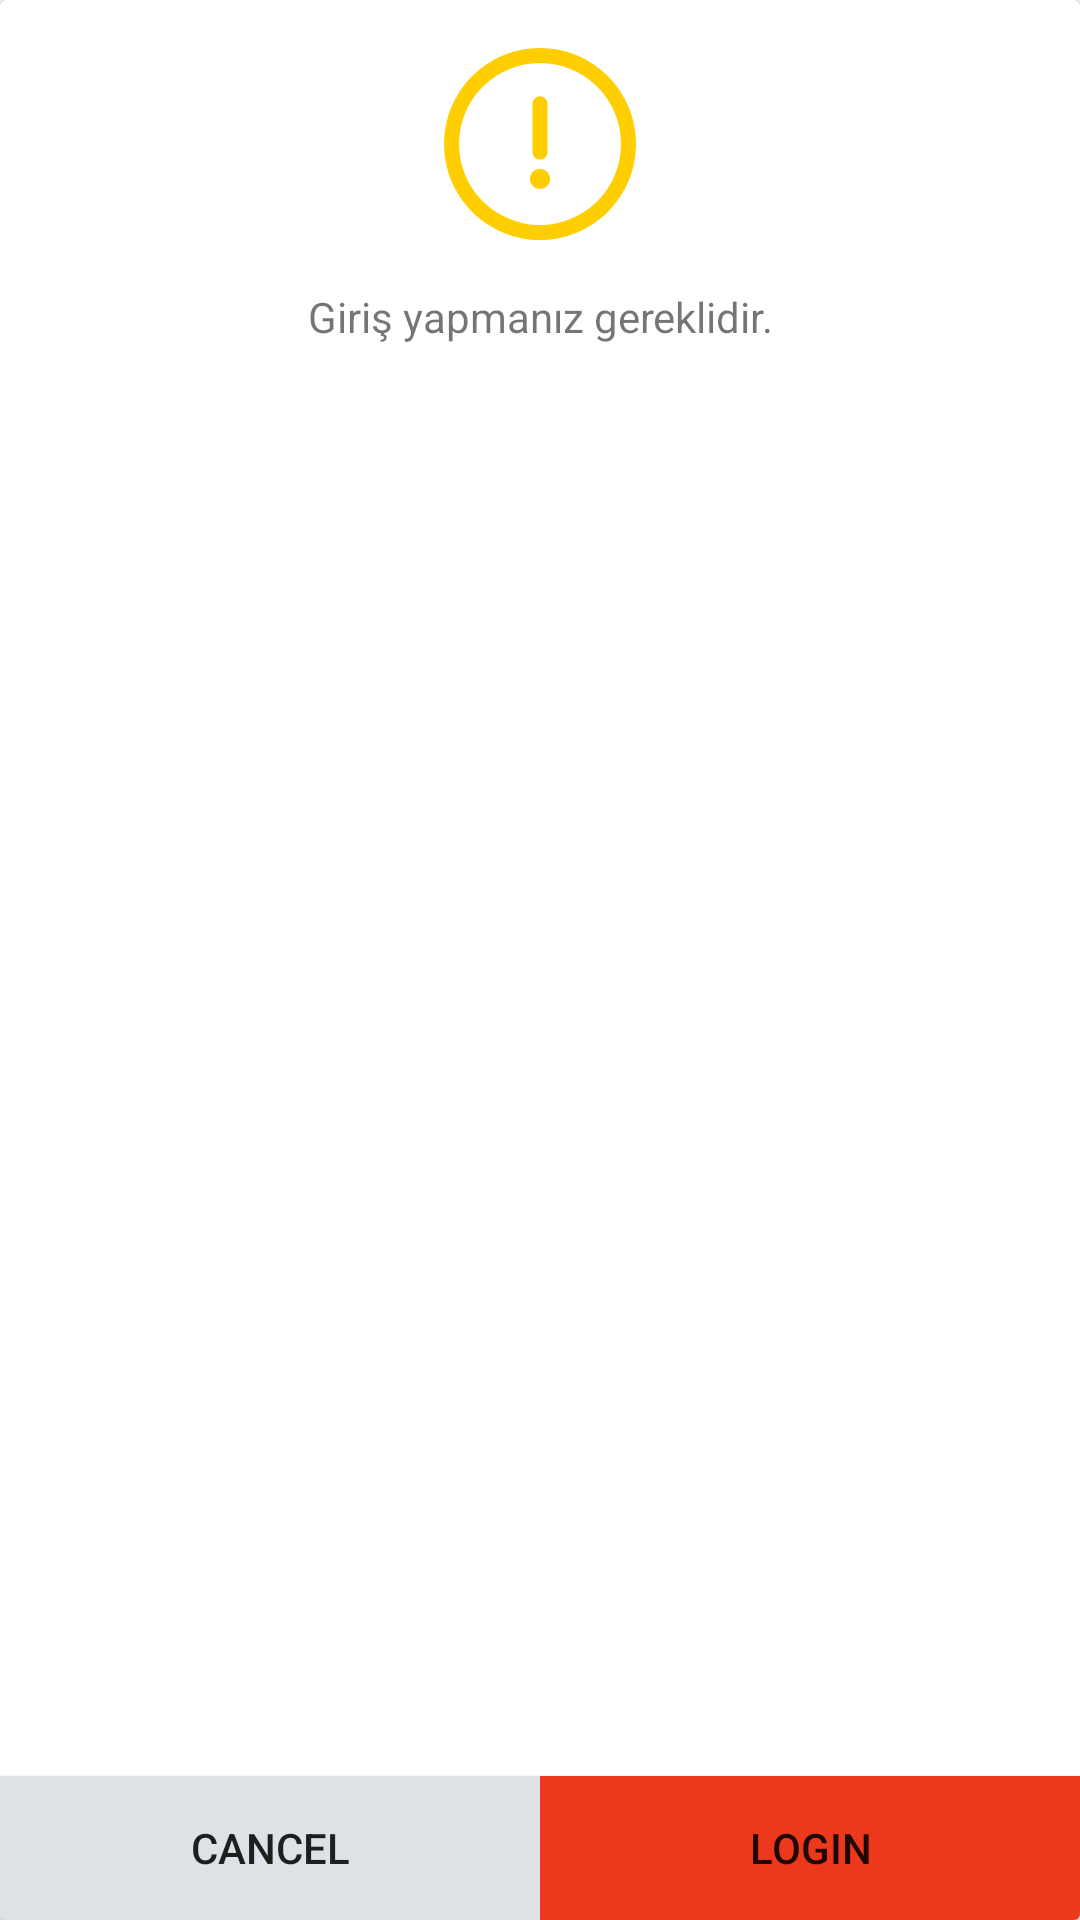

Icons on this 1080px×1920px Android screen, each with the point to tap as (x,y):
warning: (540,144)
